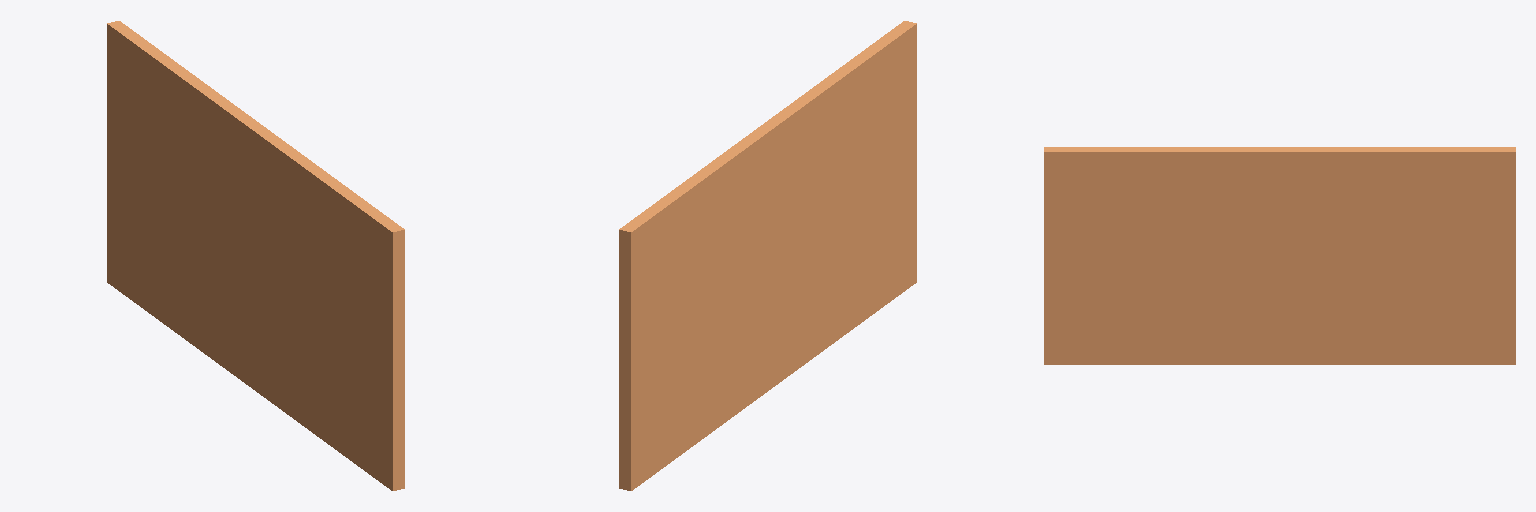
robot.urdf — cube:
<?xml version="0.0" ?>
<robot name="cube">
  <link name="baseLink">
    <contact>
      <lateral_friction value="1.0"/>
      <rolling_friction value="0.0"/>
      <contact_cfm value="10000.0"/>
      <contact_erp value="1000.0"/>
    </contact>
    <inertial>
      <origin rpy="0 0 0" xyz="0 0 0"/>
       <mass value="100.0"/>
       <inertia ixx="1000" ixy="1000" ixz="1000" iyy="1000" iyz="1000" izz="1000"/>
    </inertial>
    <visual>
      <origin rpy="0 0 0" xyz="0 0 0"/>
      <geometry>
        <!-- <mesh filename="turtlebot/turtlebot_description/meshes/stacks/hexagons/plate_top.dae"/> -->
        <!-- <mesh filename="[local-path]/SSHD/Robotics/Prev_Work/robot_prototypes/pybullet_robots/Turtlebot/data/kutu.dae"/> -->

				<mesh filename="boston_box.obj" scale="0.05 2 1"/>
				<!-- <mesh filename="boston_box.obj" scale="0.1 1 1"/> -->
      </geometry>
       <material name="brown">
        <color rgba="0.9921 0.717 0.498 1"/>
      </material> 
    </visual>
    <collision>
      <origin rpy="0 0 0" xyz="0 0 0"/>
      <geometry>
	 	<box size="0.1 4 5"/>
      </geometry>
    </collision>
  </link>
</robot>

--- Render facts (derived) ---
The picture shows the robot from 3 angles, left to right: view 1: azimuth 30°, elevation 25°; view 2: azimuth 150°, elevation 25°; view 3: azimuth 270°, elevation 25°; orthographic projection.
Robot: cube — 1 links, 0 joints (none); root link baseLink; default pose: all joints at 0.
Visible links, largest first — view 1: baseLink; view 2: baseLink; view 3: baseLink.
Link boxes in pixels (<box>): baseLink: <box>107,21,404,490</box>; baseLink: <box>619,21,916,490</box>; baseLink: <box>1044,147,1515,364</box>.
Size in the robot's own frame: 0.1 by 4 by 2 metres.
1 mesh visuals loaded from 1 distinct referenced files (1 OBJ).